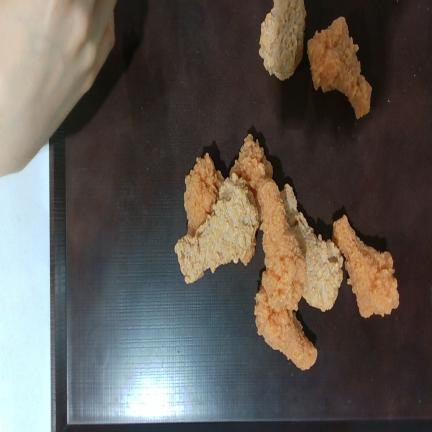chicken: (174, 174, 259, 283), (281, 185, 342, 311), (333, 215, 398, 317), (307, 17, 371, 119), (257, 179, 306, 311), (254, 286, 317, 370), (259, 0, 306, 80), (184, 153, 223, 235)
